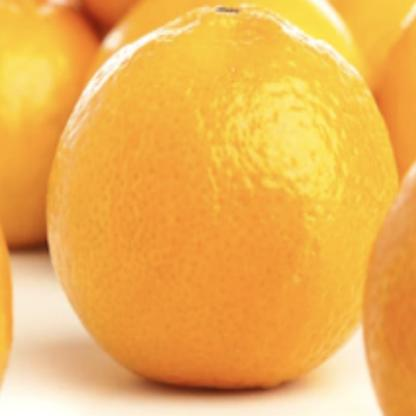fresh: (45, 9, 401, 391)
